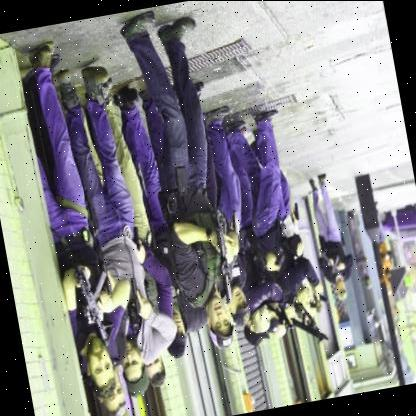rifle: (72, 263, 120, 342), (283, 306, 330, 351), (208, 206, 236, 268), (318, 249, 345, 280), (127, 279, 147, 316)
